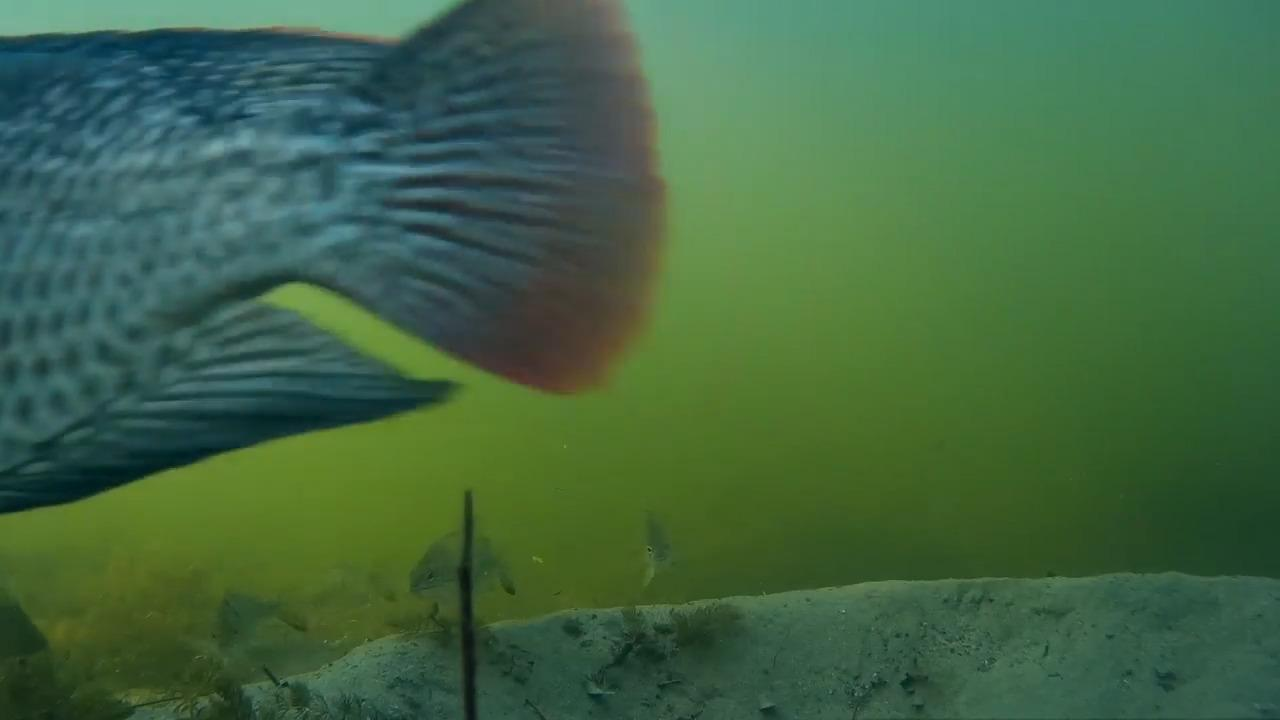Tilapia: (0, 3, 694, 522), (394, 516, 547, 626), (200, 596, 335, 680), (616, 496, 703, 580)
